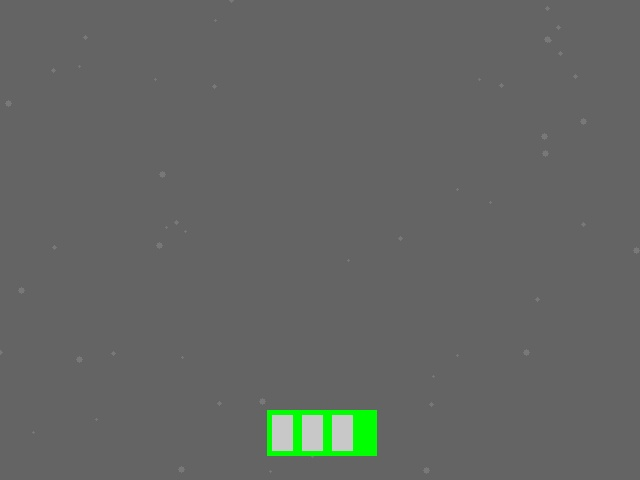bus: (267, 410, 376, 455)
